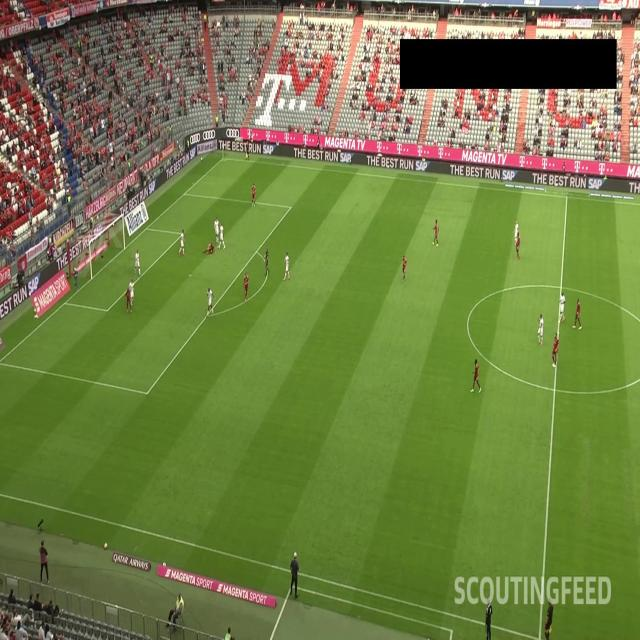ball: (33, 306, 37, 315)
player: (468, 356, 482, 394), (571, 296, 584, 331), (551, 330, 560, 370), (535, 312, 545, 347), (216, 220, 228, 249), (126, 277, 136, 310), (557, 290, 566, 326), (205, 284, 215, 316), (122, 286, 133, 314), (282, 249, 291, 282), (431, 214, 440, 247), (241, 270, 250, 302), (70, 262, 80, 290), (212, 213, 221, 244), (133, 247, 142, 277), (201, 242, 217, 257), (513, 218, 521, 248), (178, 227, 186, 256), (249, 180, 257, 208), (401, 252, 408, 284), (515, 228, 521, 262)
referee: (541, 594, 555, 640), (262, 245, 272, 278), (243, 138, 252, 161)
